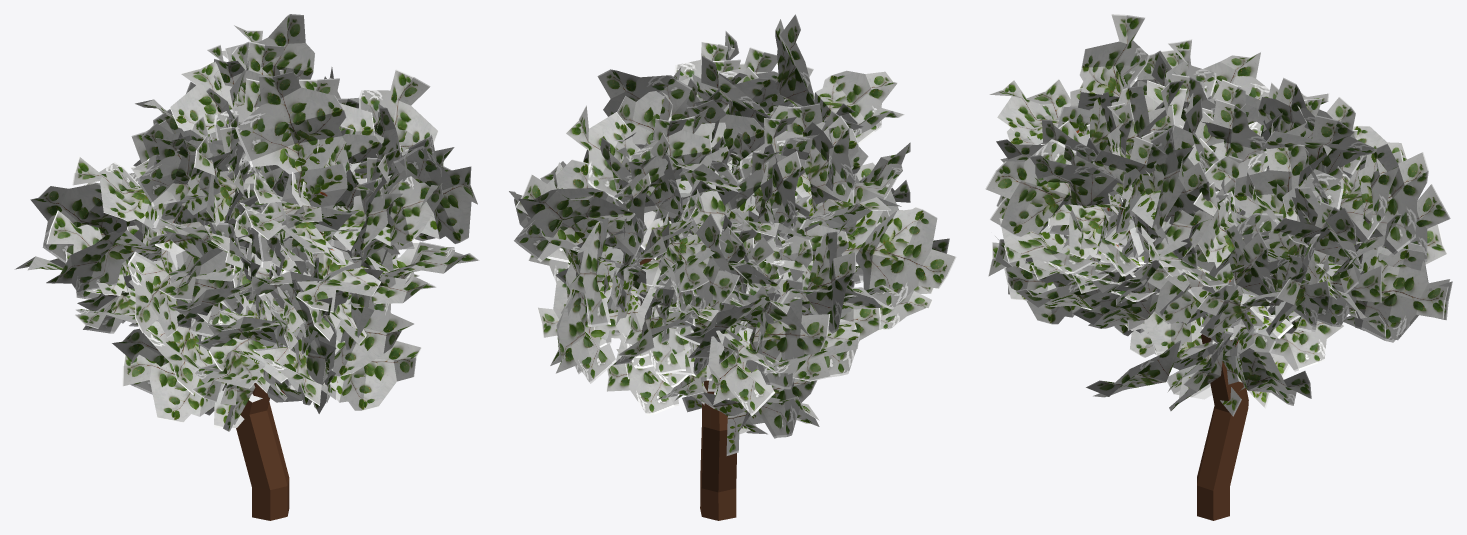
The model's file is tree_1.fbx.
3 renders of one model, left to right at view 1: azimuth 30°, elevation 25°; view 2: azimuth 150°, elevation 25°; view 3: azimuth 270°, elevation 25°, orthographic. The views are drawn at different scales.
Parts seen in each view (by area): view 1: Tree|TreeBranch|Dupli|176, Tree, Tree|TreeBranch|Dupli|180, Tree|TreeBranch|Dupli|153, Tree|TreeBranch|Dupli|10, Tree|TreeBranch|Dupli|264, Tree|TreeBranch|Dupli|17, Tree|TreeBranch|Dupli|159, Tree|TreeBranch|Dupli|164, Tree|TreeBranch|Dupli|184, Tree|TreeBranch|Dupli|169, Tree|TreeBranch|Dupli|117 (+53 smaller); view 2: Tree|TreeBranch|Dupli|153, Tree|TreeBranch|Dupli|97, Tree, Tree|TreeBranch|Dupli|251, Tree|TreeBranch|Dupli|92, Tree|TreeBranch|Dupli|44, Tree|TreeBranch|Dupli|163, Tree|TreeBranch|Dupli|215, Tree|TreeBranch|Dupli|177, Tree|TreeBranch|Dupli|264, Tree|TreeBranch|Dupli|184, Tree|TreeBranch|Dupli|269 (+58 smaller); view 3: Tree|TreeBranch|Dupli|217, Tree, Tree|TreeBranch|Dupli|180, Tree|TreeBranch|Dupli|176, Tree|TreeBranch|Dupli|97, Tree|TreeBranch|Dupli|216, Tree|TreeBranch|Dupli|184, Tree|TreeBranch|Dupli|19, Tree|TreeBranch|Dupli|44, Tree|TreeBranch|Dupli|84, Tree|TreeBranch|Dupli|195, Tree|TreeBranch|Dupli|64 (+58 smaller).
Boxes of the visible parts, left/top/right/bottom form: Tree|TreeBranch|Dupli|176: left=235, top=71, right=347, bottom=212; Tree: left=236, top=231, right=321, bottom=520; Tree|TreeBranch|Dupli|180: left=358, top=146, right=477, bottom=249; Tree|TreeBranch|Dupli|153: left=46, top=230, right=176, bottom=292; Tree|TreeBranch|Dupli|10: left=122, top=354, right=244, bottom=427; Tree|TreeBranch|Dupli|264: left=30, top=183, right=157, bottom=263; Tree|TreeBranch|Dupli|17: left=289, top=341, right=421, bottom=410; Tree|TreeBranch|Dupli|159: left=72, top=156, right=184, bottom=254; Tree|TreeBranch|Dupli|164: left=128, top=215, right=179, bottom=337; Tree|TreeBranch|Dupli|184: left=359, top=69, right=438, bottom=178; Tree|TreeBranch|Dupli|169: left=330, top=175, right=443, bottom=250; Tree|TreeBranch|Dupli|117: left=333, top=303, right=414, bottom=376; Tree|TreeBranch|Dupli|153: left=841, top=207, right=956, bottom=309; Tree|TreeBranch|Dupli|97: left=514, top=188, right=625, bottom=284; Tree: left=639, top=258, right=736, bottom=520; Tree|TreeBranch|Dupli|251: left=707, top=279, right=830, bottom=391; Tree|TreeBranch|Dupli|92: left=568, top=221, right=637, bottom=334; Tree|TreeBranch|Dupli|44: left=565, top=105, right=671, bottom=259; Tree|TreeBranch|Dupli|163: left=802, top=116, right=855, bottom=212; Tree|TreeBranch|Dupli|215: left=555, top=274, right=617, bottom=383; Tree|TreeBranch|Dupli|177: left=814, top=70, right=897, bottom=144; Tree|TreeBranch|Dupli|264: left=802, top=231, right=855, bottom=333; Tree|TreeBranch|Dupli|184: left=597, top=69, right=697, bottom=120; Tree|TreeBranch|Dupli|269: left=708, top=326, right=774, bottom=415; Tree|TreeBranch|Dupli|217: left=1291, top=242, right=1450, bottom=342; Tree: left=1116, top=213, right=1248, bottom=520; Tree|TreeBranch|Dupli|180: left=985, top=139, right=1107, bottom=237; Tree|TreeBranch|Dupli|176: left=1057, top=14, right=1149, bottom=136; Tree|TreeBranch|Dupli|97: left=1340, top=143, right=1428, bottom=293; Tree|TreeBranch|Dupli|216: left=1234, top=144, right=1343, bottom=221; Tree|TreeBranch|Dupli|184: left=1116, top=127, right=1193, bottom=233; Tree|TreeBranch|Dupli|19: left=1202, top=339, right=1311, bottom=405; Tree|TreeBranch|Dupli|44: left=1260, top=115, right=1376, bottom=173; Tree|TreeBranch|Dupli|84: left=1027, top=155, right=1134, bottom=218; Tree|TreeBranch|Dupli|195: left=1315, top=151, right=1403, bottom=283; Tree|TreeBranch|Dupli|64: left=995, top=218, right=1142, bottom=277.
Size of the model in its own units: 935 by 938 by 1067.
Materials: 2 (1 with a texture image).
